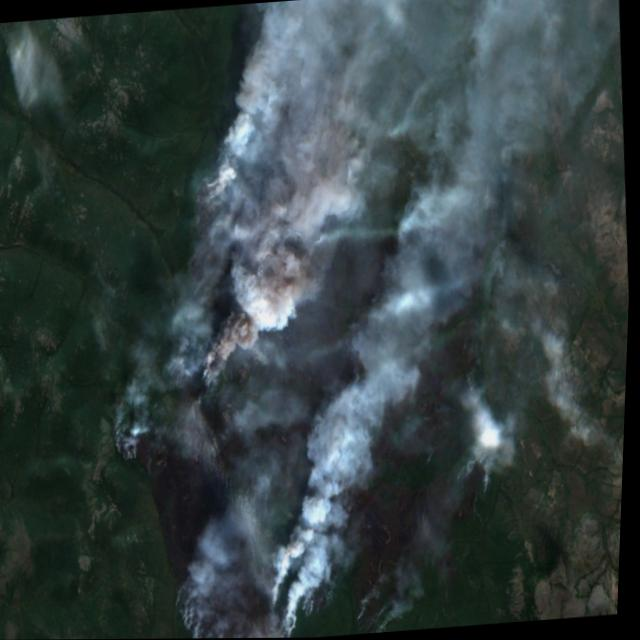fire: (88, 151, 417, 639)
